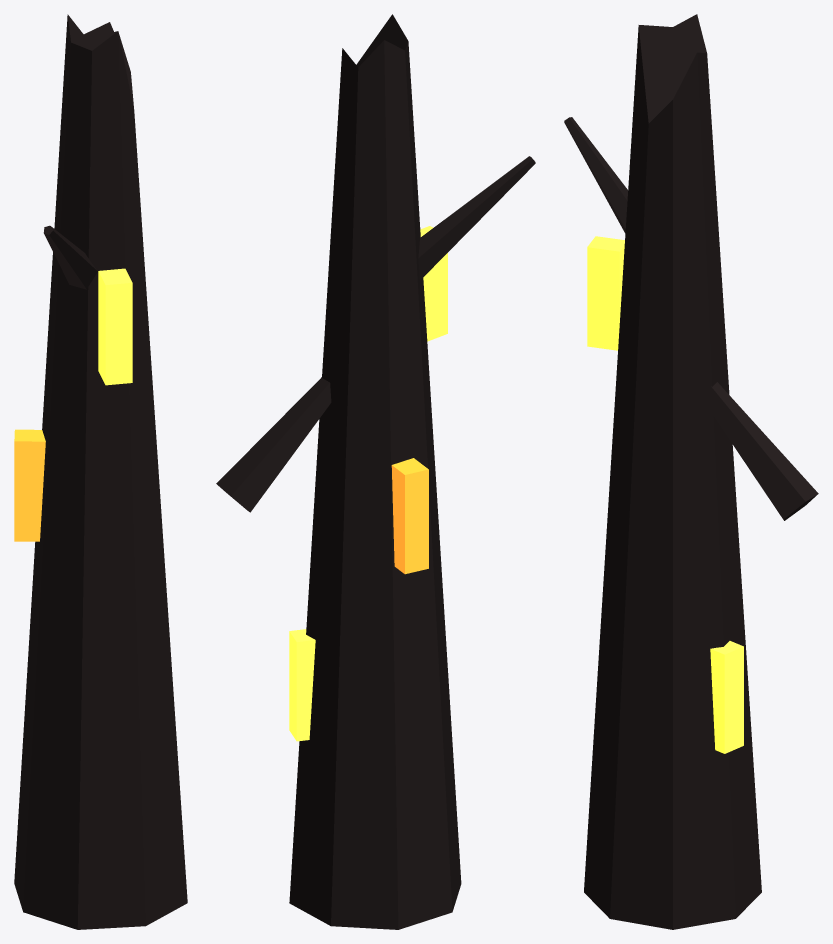
Rendered from hd_charred.gltf.
3 views of the same model, side by side, from view 1: azimuth 30°, elevation 25°; view 2: azimuth 150°, elevation 25°; view 3: azimuth 270°, elevation 25° (orthographic).
Visible parts, largest first — view 1: trunk, ember2, ember1, stub1; view 2: trunk, stub0, ember1, stub1, ember0, ember2; view 3: trunk, stub0, ember2, ember0, stub1.
Part boxes in pixels (<box>): trunk: <box>14,14,187,929</box>; ember2: <box>98,268,132,385</box>; ember1: <box>14,429,45,541</box>; stub1: <box>43,225,97,289</box>; trunk: <box>289,14,461,929</box>; stub0: <box>216,377,331,512</box>; ember1: <box>391,458,428,574</box>; stub1: <box>418,156,535,280</box>; ember0: <box>289,629,315,741</box>; ember2: <box>420,226,447,341</box>; trunk: <box>584,14,761,929</box>; stub0: <box>703,382,818,520</box>; ember2: <box>587,236,624,350</box>; ember0: <box>710,641,743,753</box>; stub1: <box>564,117,628,233</box>.
Size of the model in its own units: 0.6813 by 2.8 by 0.7429.
